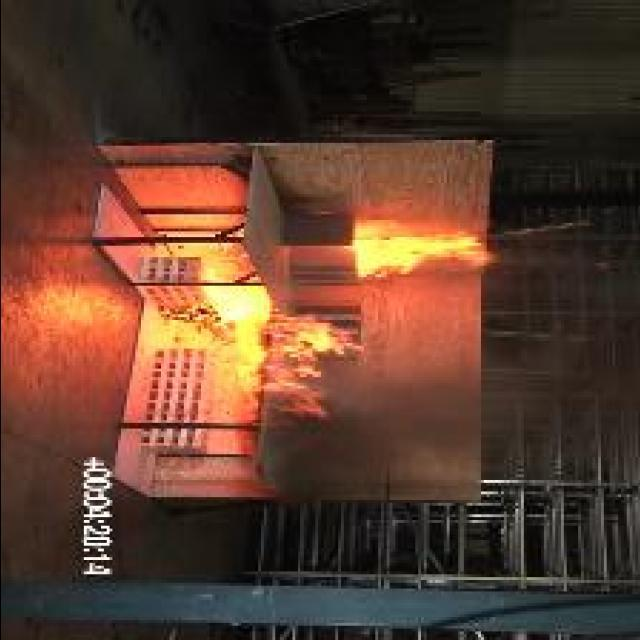Fire: (168, 289, 362, 422), (356, 220, 493, 280)
